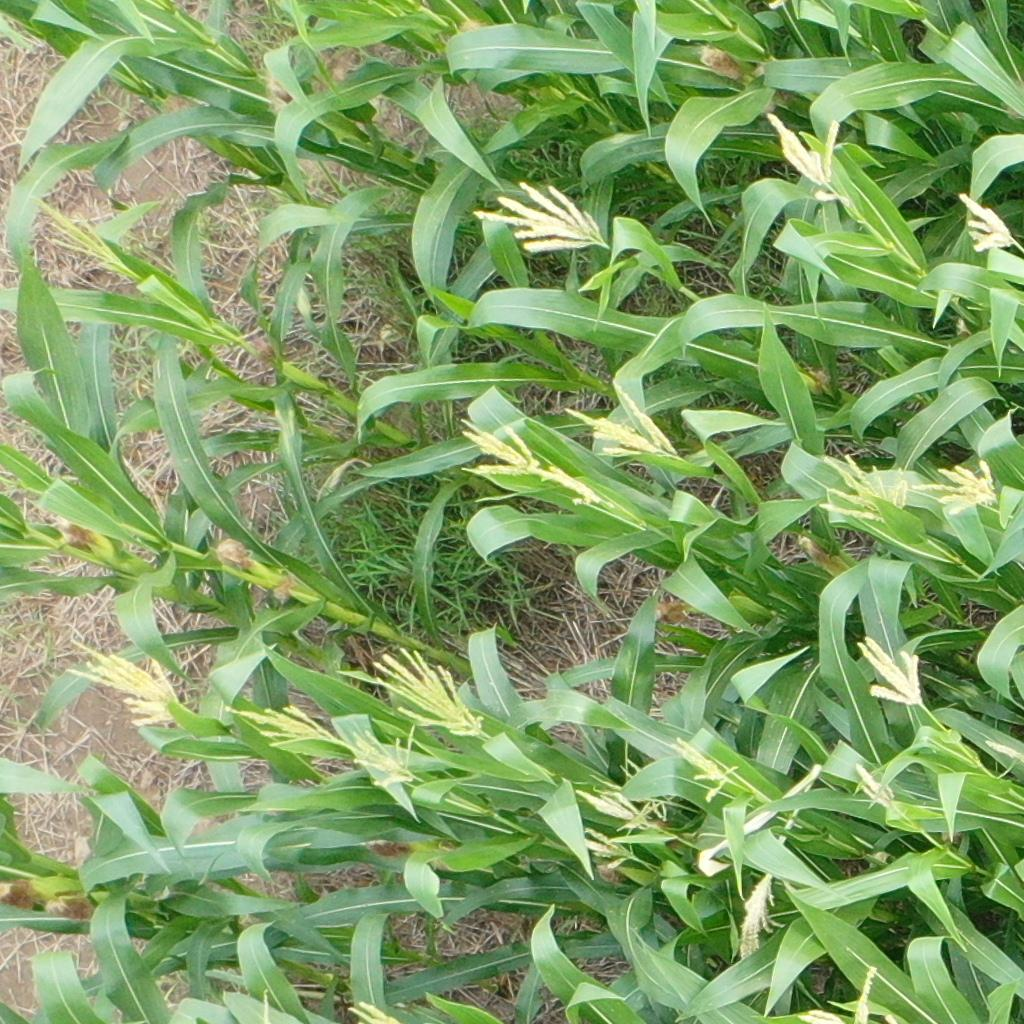Tassel: (452, 415, 600, 508), (465, 178, 615, 262), (62, 635, 188, 726), (374, 645, 492, 739), (558, 378, 686, 464), (763, 111, 851, 206), (812, 447, 914, 524), (29, 188, 120, 271), (796, 960, 902, 1024), (222, 697, 338, 751), (571, 772, 664, 835), (730, 862, 789, 960), (856, 631, 929, 709), (908, 453, 998, 516), (345, 723, 421, 788), (671, 735, 741, 804), (953, 192, 1022, 253), (577, 823, 645, 874), (852, 762, 905, 821), (344, 998, 403, 1024)
